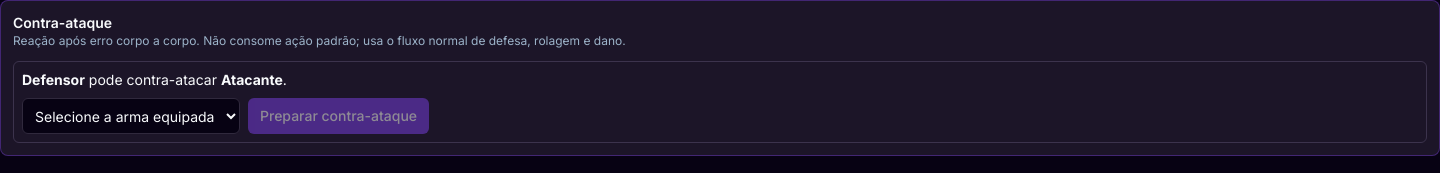
Test: painel de contra-ataque › exige arma corpo a corpo e encaminha a reação para defesa e rolagem
The width and height of the screenshot is (1440, 173).
Expected: the button "Preparar contra-ataque" is disabled, x1=248 y1=98 x2=429 y2=134
Select "Faca" in the dropdown named "Arma do contra-ataque de Defensor" at (131, 116), box x1=22 y1=98 x2=240 y2=134
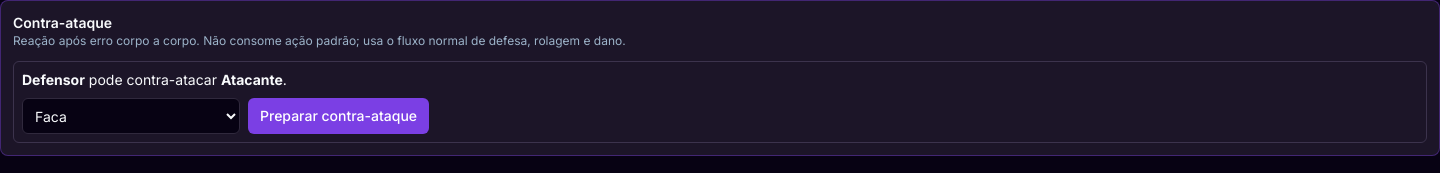
Click the button "Preparar contra-ataque" at (339, 116), box x1=248 y1=98 x2=429 y2=134
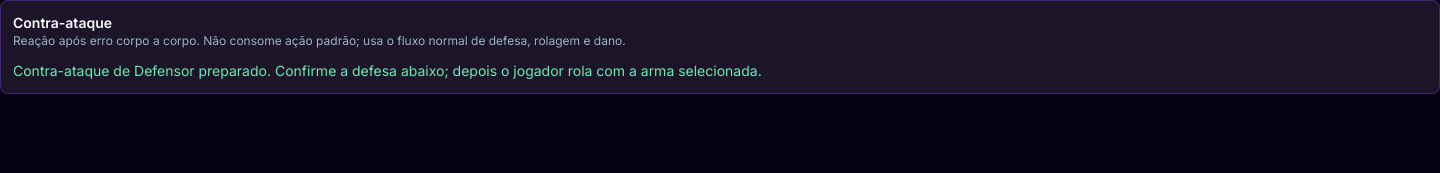
Expected: the message shows "Confirme a defesa abaixo; depois o jogador rola", x1=13 y1=62 x2=762 y2=79
